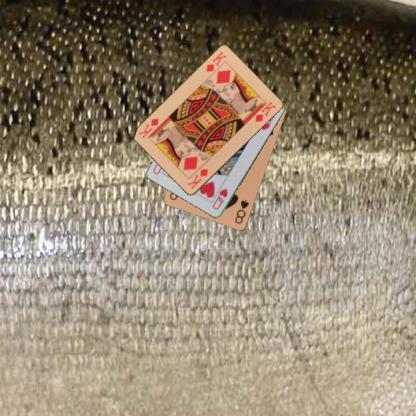8s: (232, 197, 250, 225)
Kd: (203, 48, 228, 74), (185, 166, 209, 190)
Qh: (210, 186, 229, 212)
